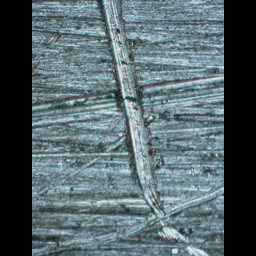d: (95, 0, 210, 254)
